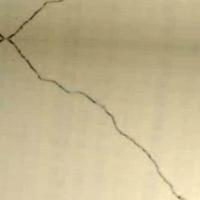crack: (4, 3, 194, 199)
